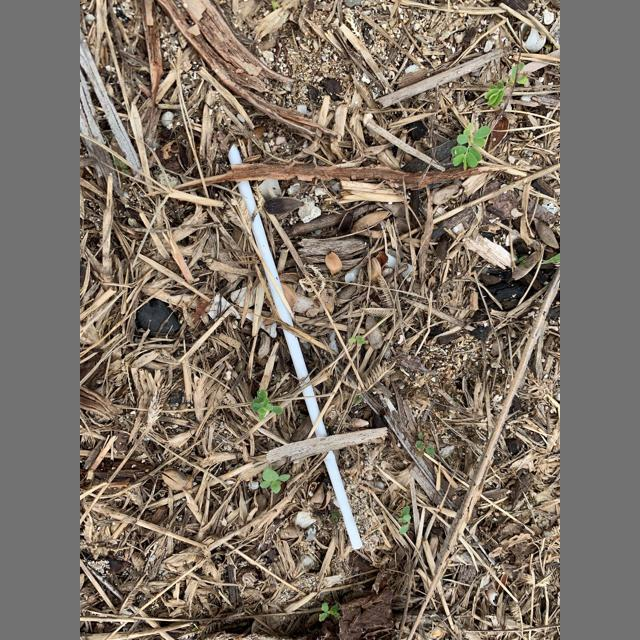litter: (228, 141, 362, 549)
